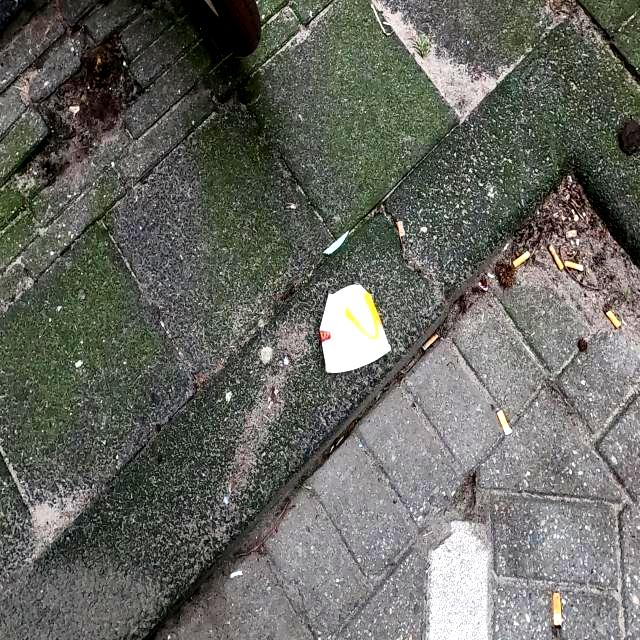Coffee Cup: (318, 281, 392, 375)
